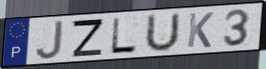3: (222, 7, 253, 48)
J: (34, 19, 64, 61)
K: (185, 11, 215, 49)
L: (108, 17, 139, 55)
U: (142, 11, 182, 55)
Z: (70, 18, 105, 59)
